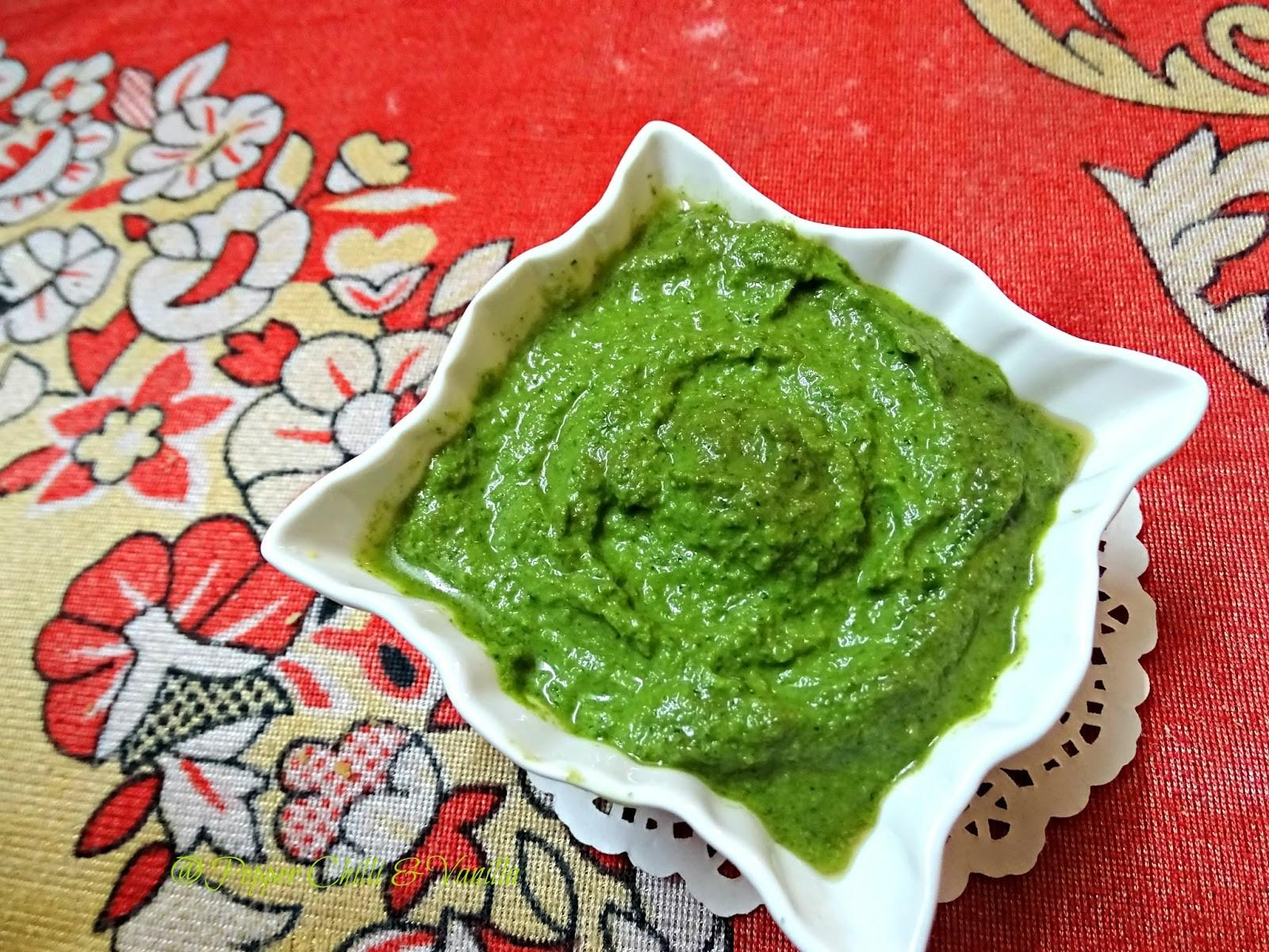GreenChutney: (368, 201, 1096, 878)
